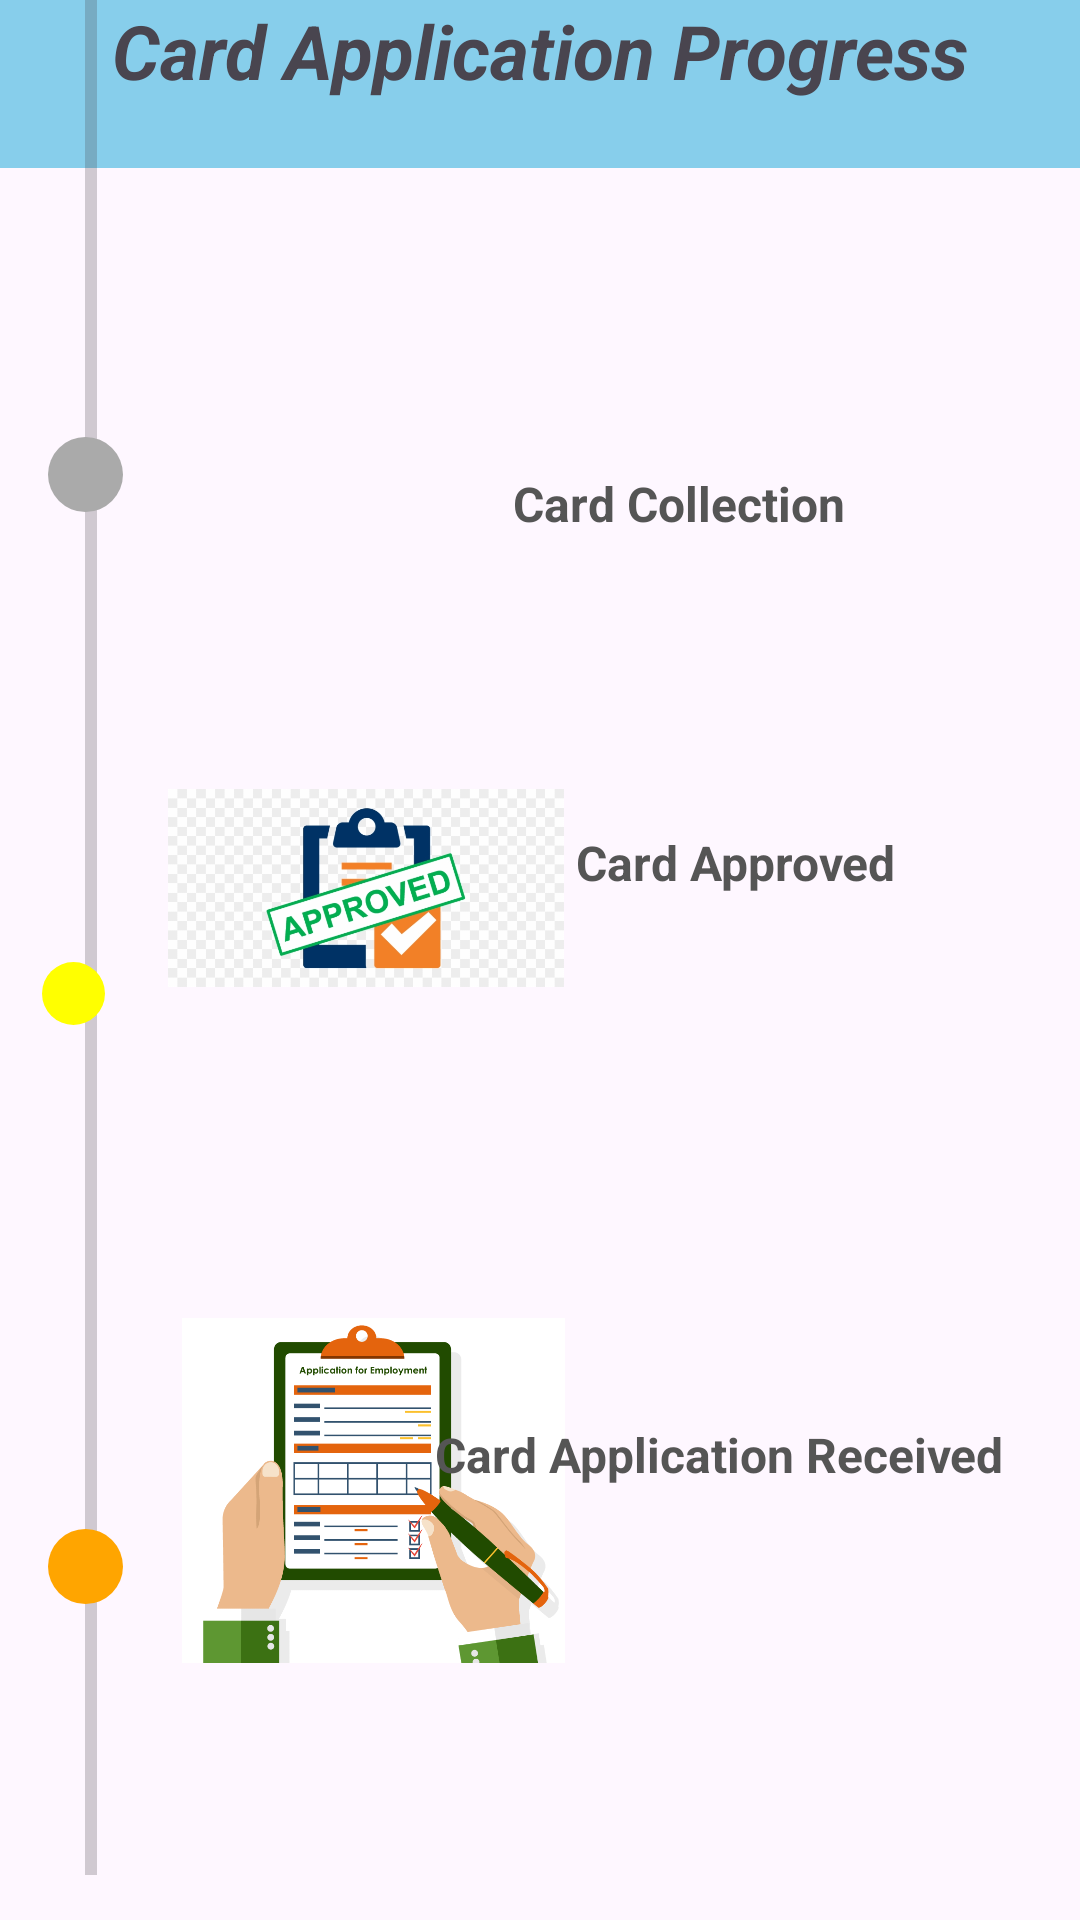

Icon bounding boxes for this 1080*1920 phone screenshot, format (x1, y1, x2, y2):
Card Application Approved: (266, 808, 466, 969)
